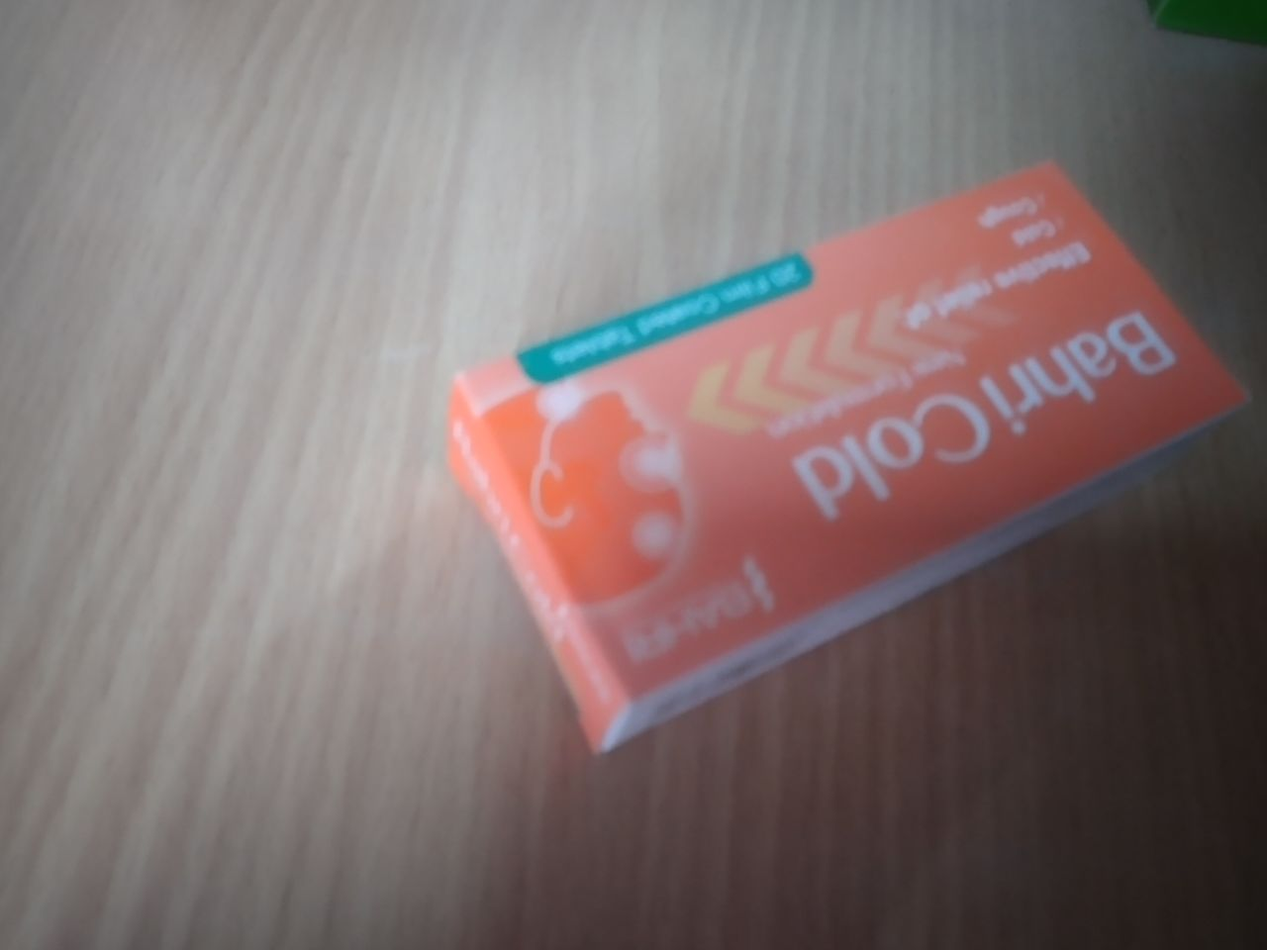Medicine: (423, 163, 1247, 750)
